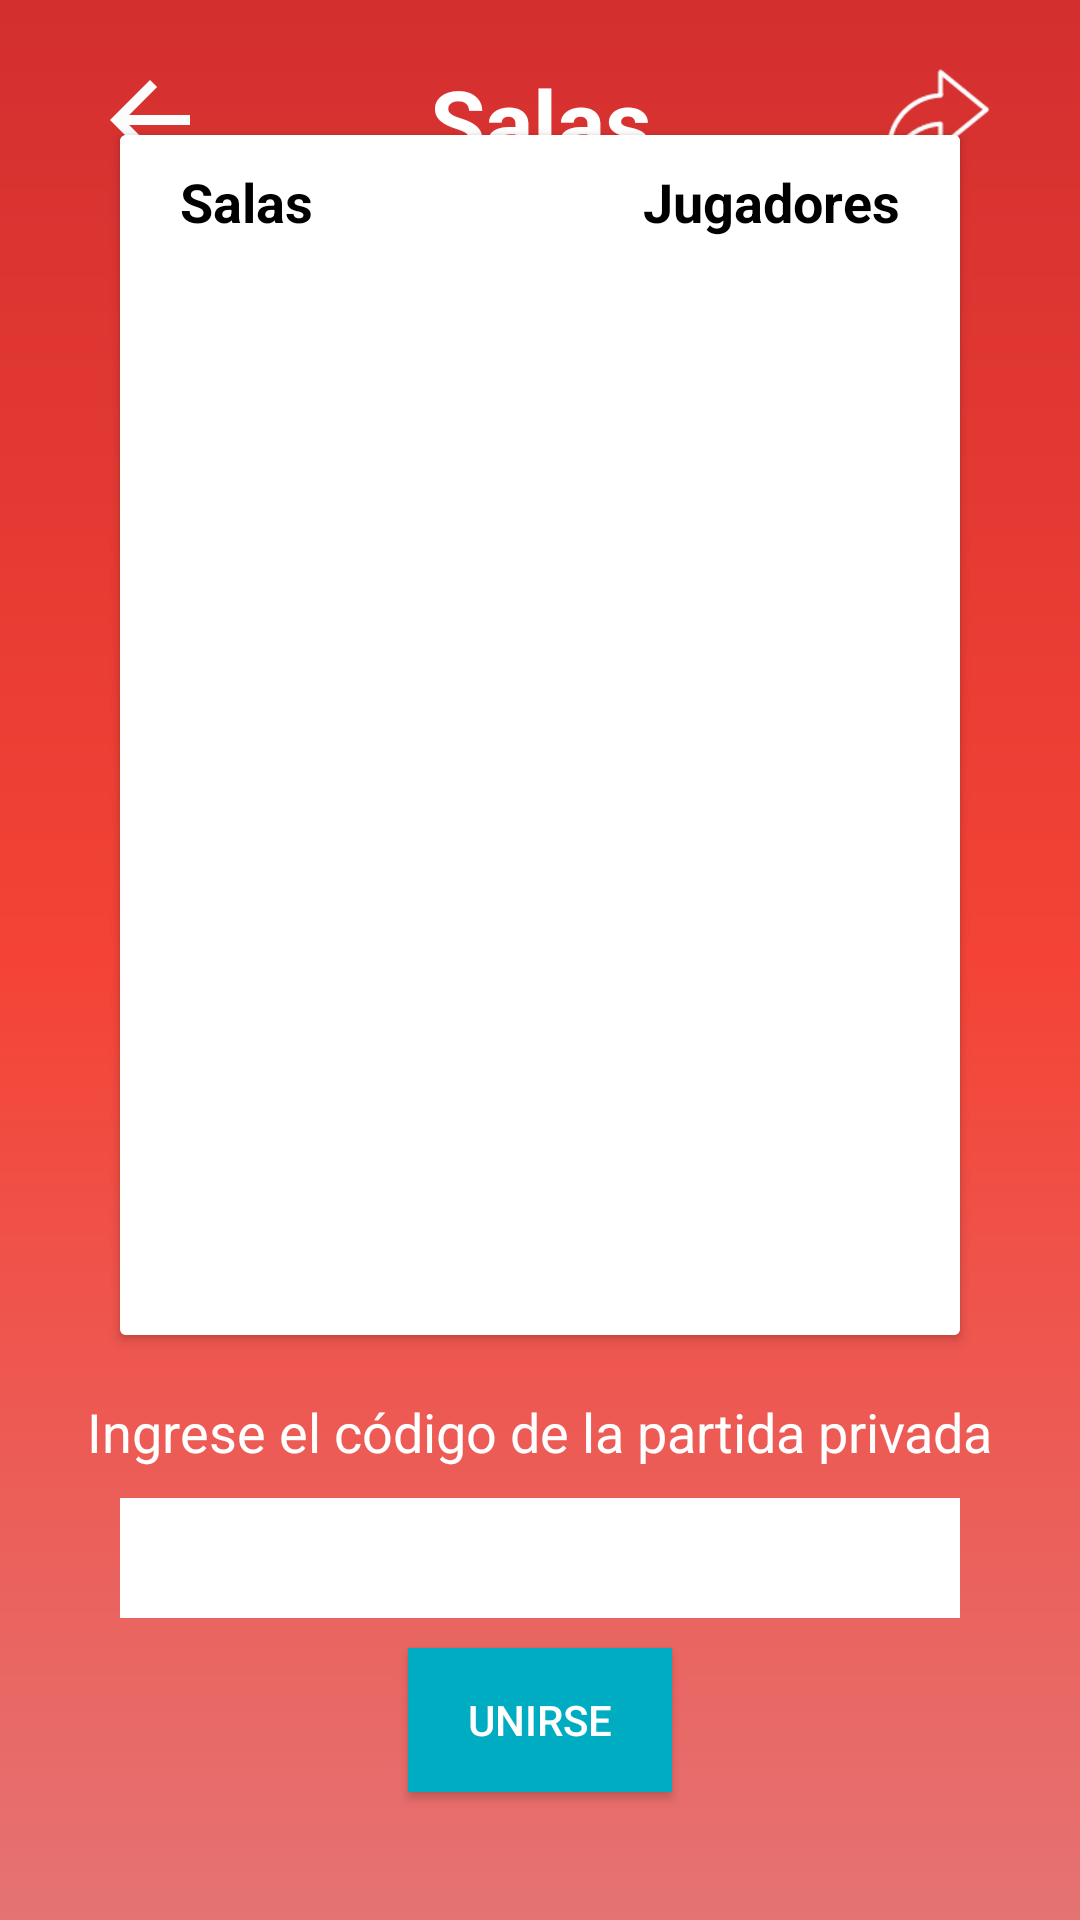

Icon click points for this 1080px x 1920px phone screenshot, format point (x, y):
back: point (160, 130)
